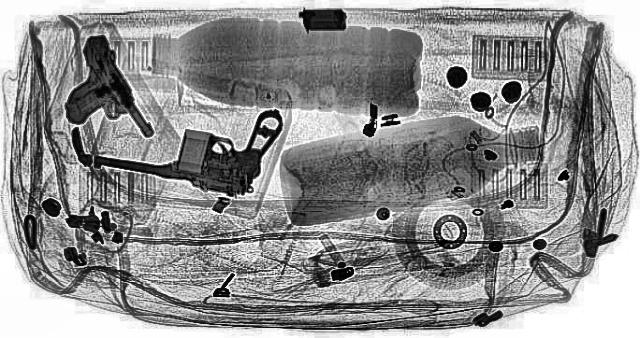Gun: (85, 89, 298, 197), (26, 35, 162, 146)
